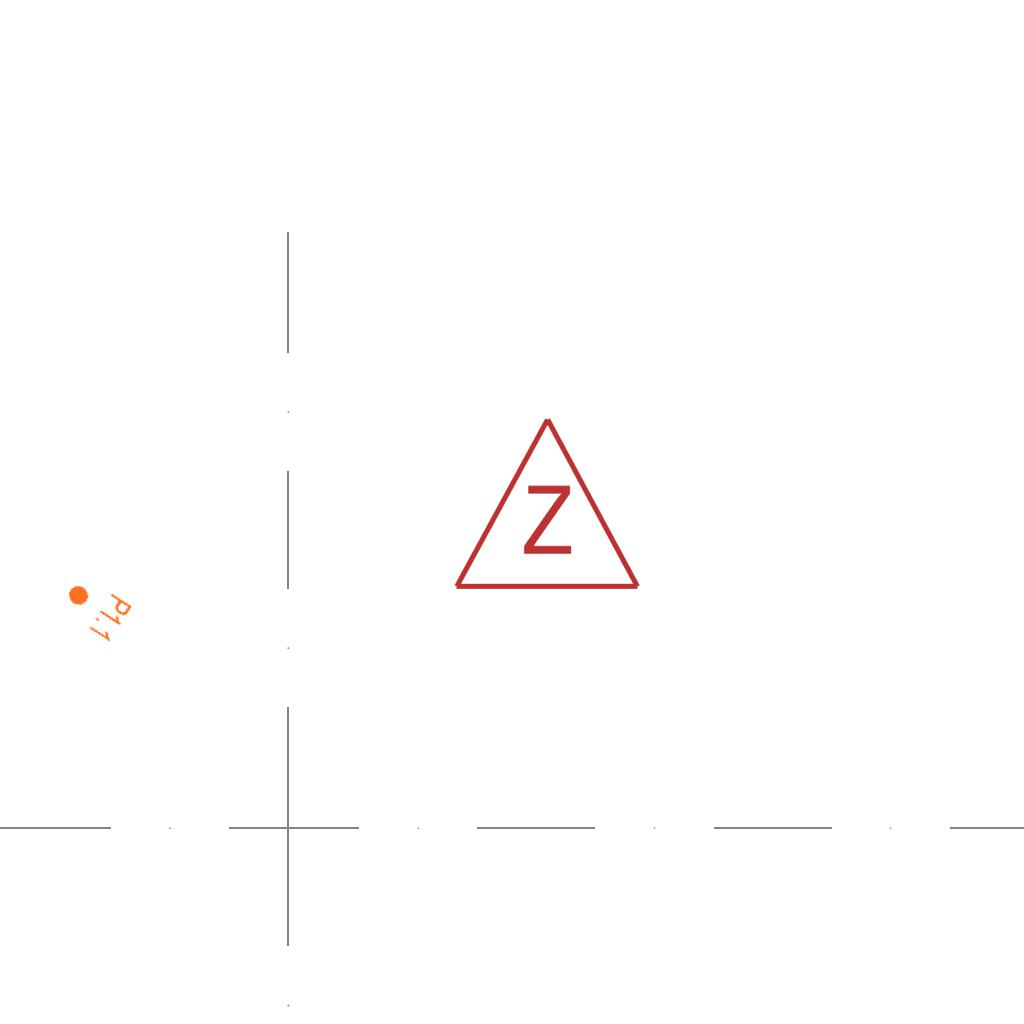Downlight_LED_Einbauleuchten_Flur: (55, 571, 135, 645)
Zimmersignalleuchte: (447, 404, 643, 604)
